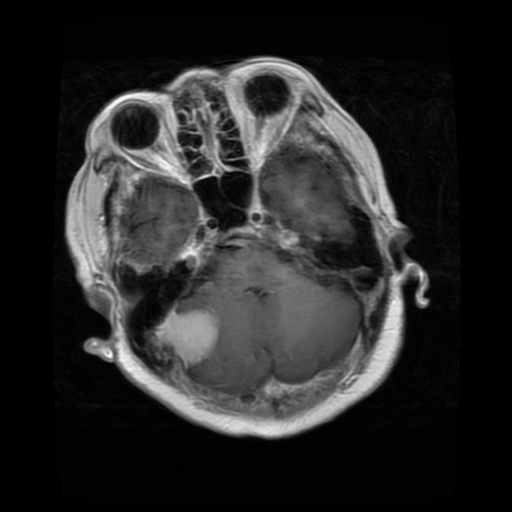meningioma: (155, 305, 219, 367)
